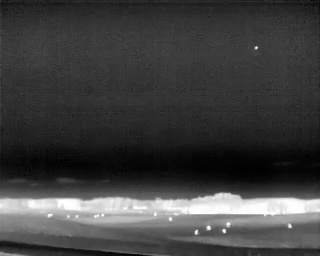BIRD: (252, 43, 260, 53)
